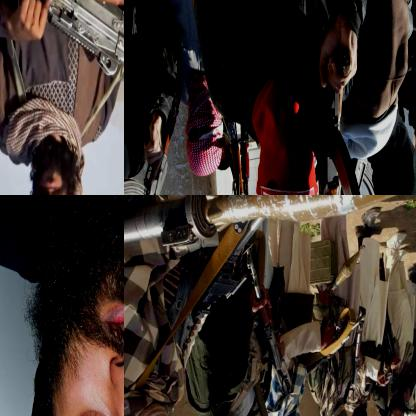rifle: (124, 195, 415, 257), (0, 0, 123, 114), (316, 19, 367, 194), (243, 249, 289, 376), (124, 99, 178, 194), (305, 309, 368, 374), (304, 156, 381, 194), (225, 117, 253, 194)
